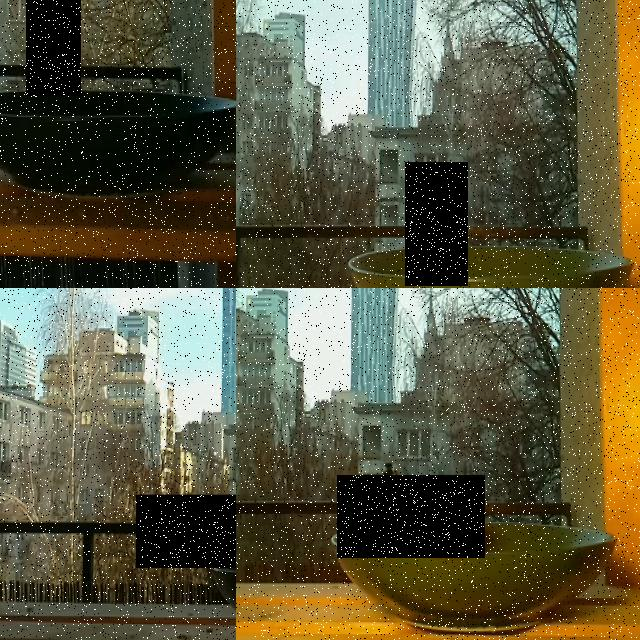Bogatka: (337, 475, 485, 558)
Modraszka: (136, 494, 236, 568), (26, 0, 81, 95)
Wrobel: (405, 162, 468, 286)
